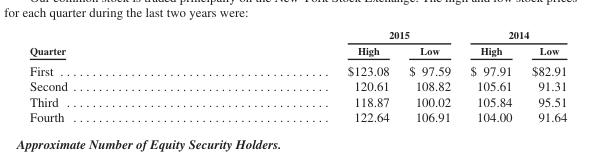table: (28, 28, 566, 123)
table column: (206, 28, 398, 123), (28, 28, 206, 123), (459, 28, 521, 123), (398, 28, 459, 123), (521, 28, 566, 123)
table column header: (28, 28, 566, 59)
table row: (28, 59, 566, 77), (28, 42, 566, 59), (28, 77, 566, 93), (28, 93, 566, 108), (28, 108, 566, 123), (28, 28, 566, 42)
table spanning cell: (28, 28, 206, 59), (206, 28, 459, 42), (459, 28, 566, 42)
